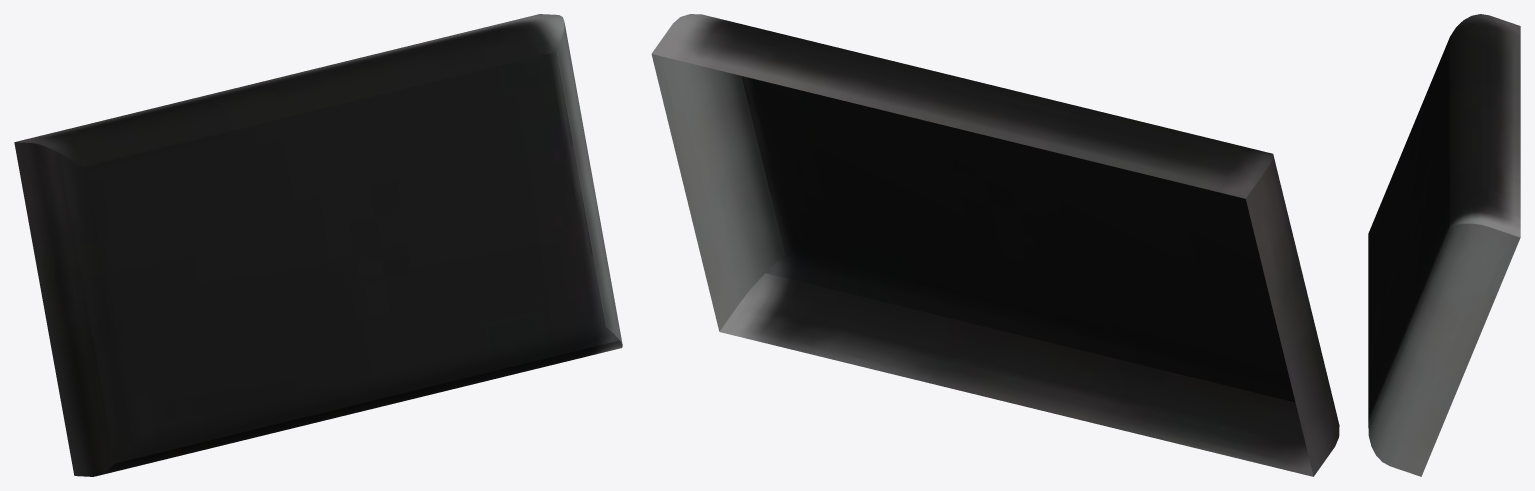
Rendered from link_2__button-3.glb.
The picture shows the model from 3 angles, left to right: view 1: azimuth 30°, elevation 25°; view 2: azimuth 150°, elevation 25°; view 3: azimuth 270°, elevation 25°; orthographic projection. The views are drawn at different scales.
Visible parts, largest first — view 1: world; view 2: world; view 3: world.
Boxes of the visible parts, left/top/right/bottom form: world: left=14, top=14, right=622, bottom=476; world: left=651, top=14, right=1339, bottom=476; world: left=1368, top=14, right=1520, bottom=476.
Bounding box in the file's own units: 0.0354 × 0.0197 × 0.0108.
1 material, 1 textured.
